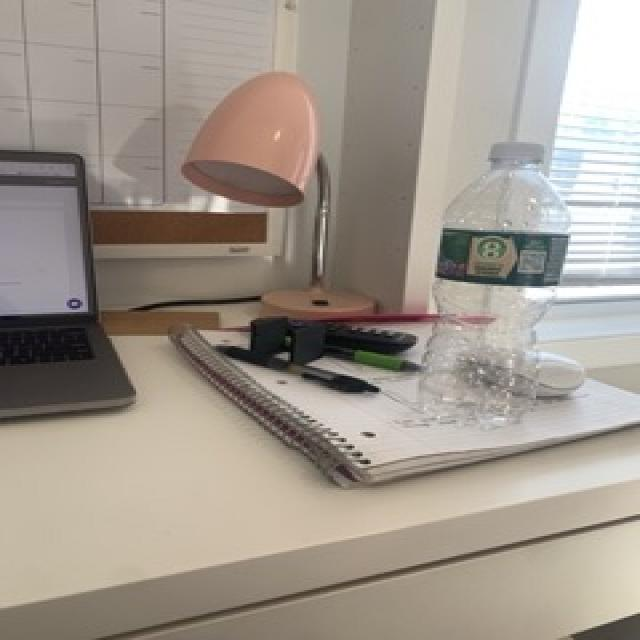water_bottle: (413, 139, 575, 429)
